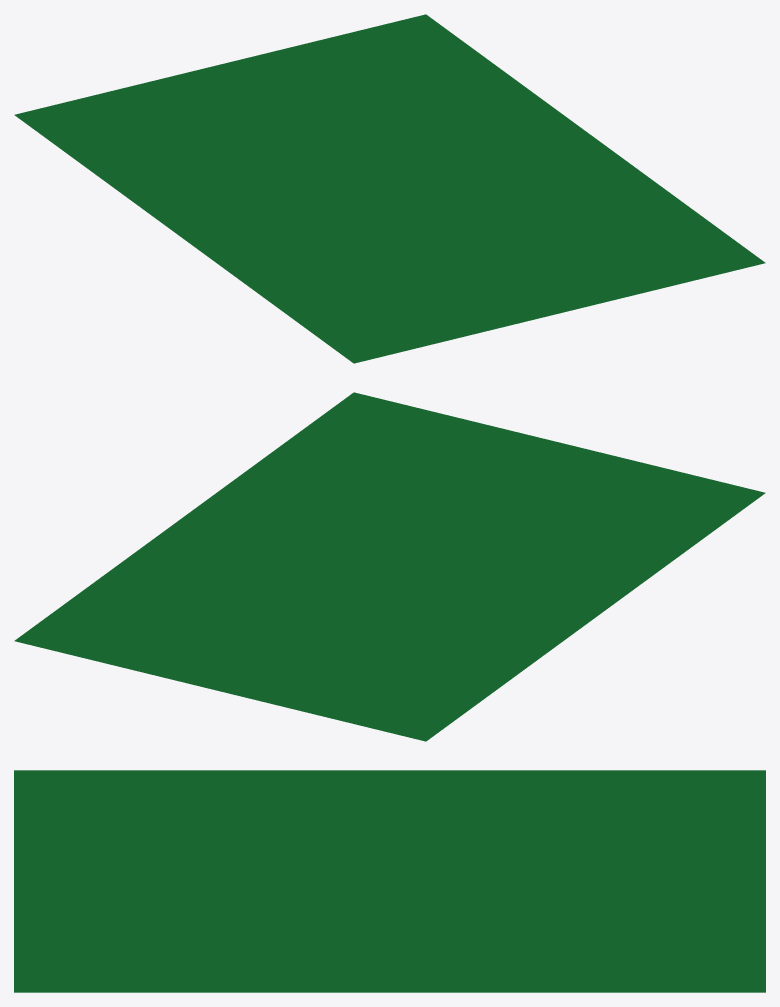
3 renders of one model, top to bottom at view 1: azimuth 30°, elevation 25°; view 2: azimuth 150°, elevation 25°; view 3: azimuth 270°, elevation 25°, orthographic. The views are drawn at different scales.
Visible parts, largest first — view 1: Plane001; view 2: Plane001; view 3: Plane001.
Boxes of the visible parts, x1,y1,x2,y2 form: Plane001: (14, 14, 765, 363); Plane001: (14, 392, 765, 741); Plane001: (14, 770, 765, 992).
Bounding box in the file's own units: 35 × 3.06e-15 × 50.
